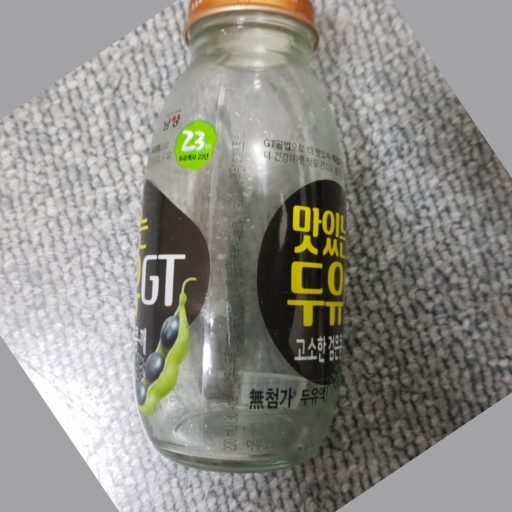Glass_4: (136, 1, 347, 471)
